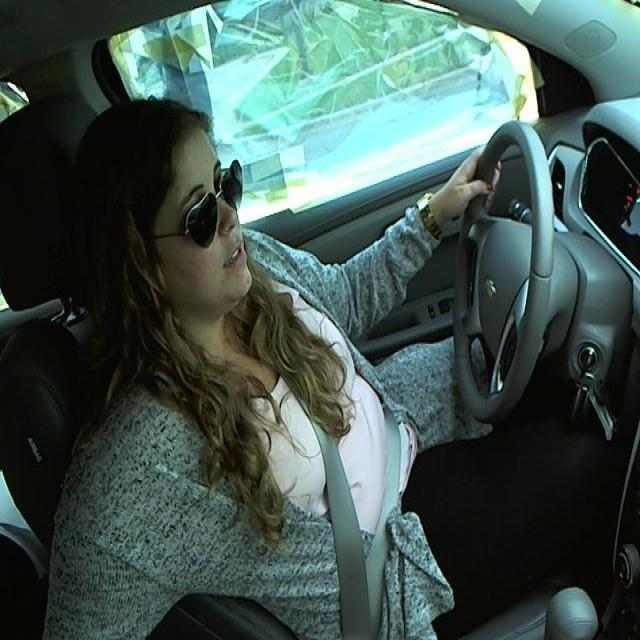seatbelt: (264, 349, 416, 635)
